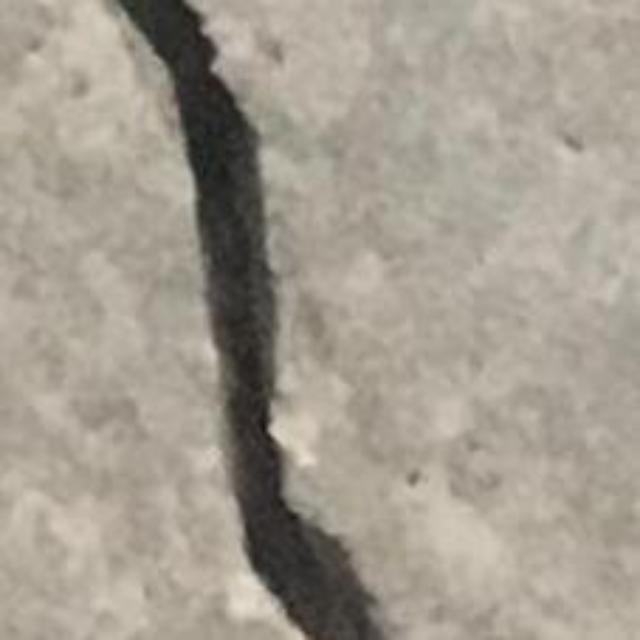crack: (116, 0, 383, 639)
